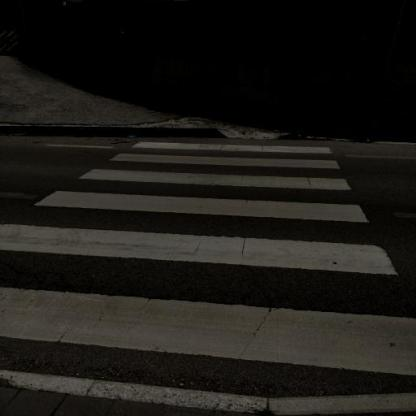crosswalk: (0, 220, 416, 380), (75, 152, 358, 193)
